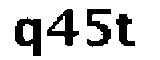4: (45, 6, 80, 50)
5: (85, 4, 112, 52)
q: (10, 17, 43, 60)
t: (116, 11, 138, 54)
